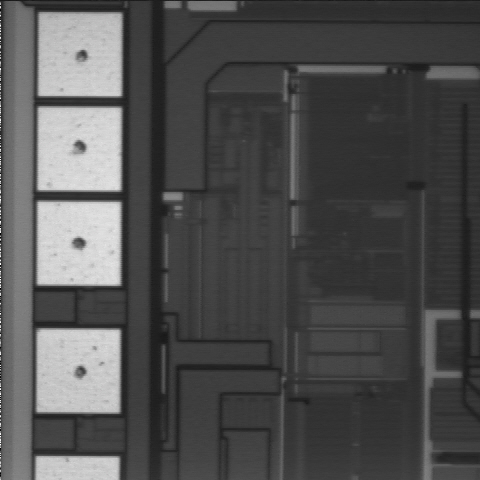pad: (38, 108, 121, 191), (38, 202, 120, 286), (37, 330, 120, 412), (39, 14, 121, 96)
